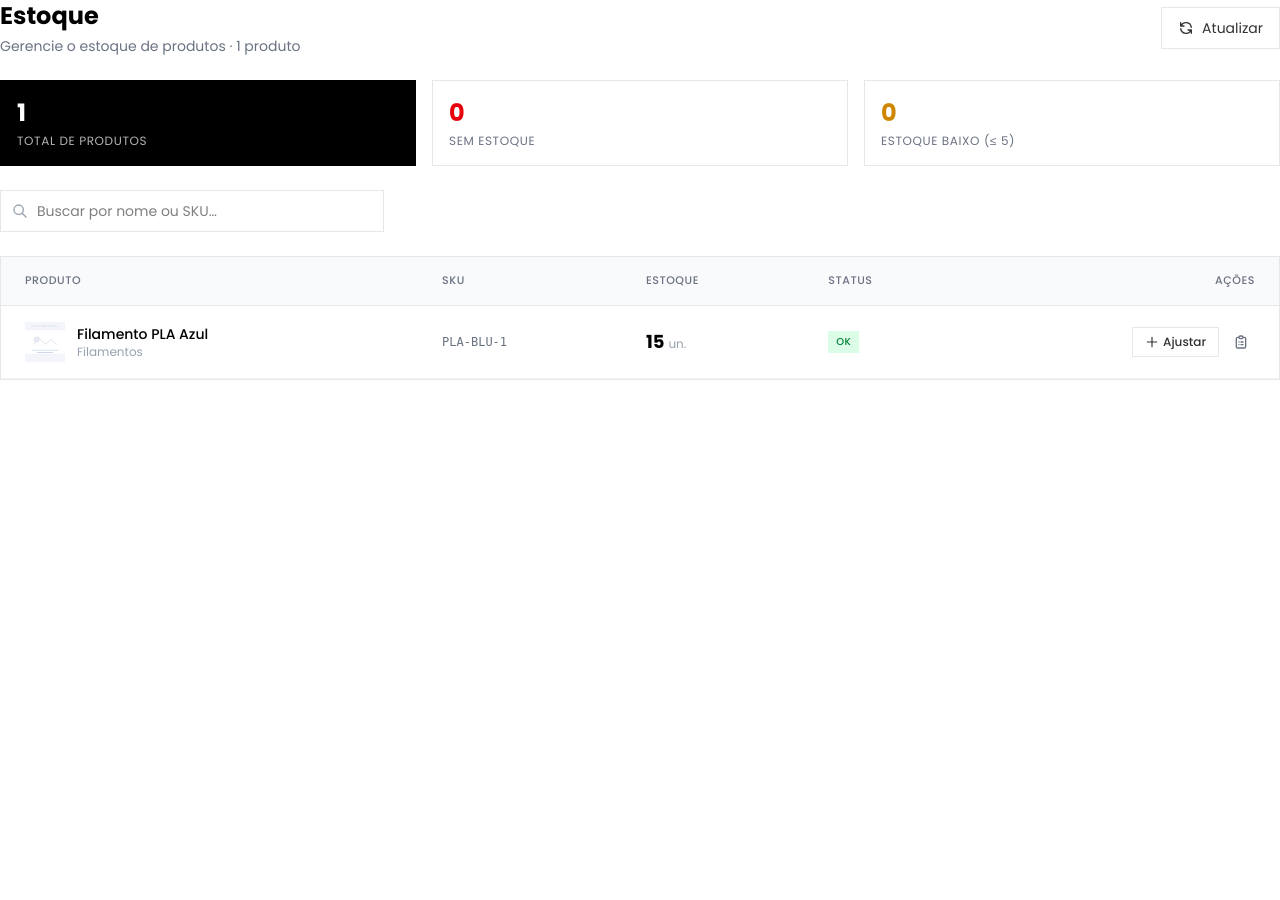
Test: Painel de Estoque Administrativo (UI) › deve abrir o modal de ajuste e exibir dados corretos do produto
Click the button titled "Ajustar estoque": (1176, 342) [1132,327,1219,357]
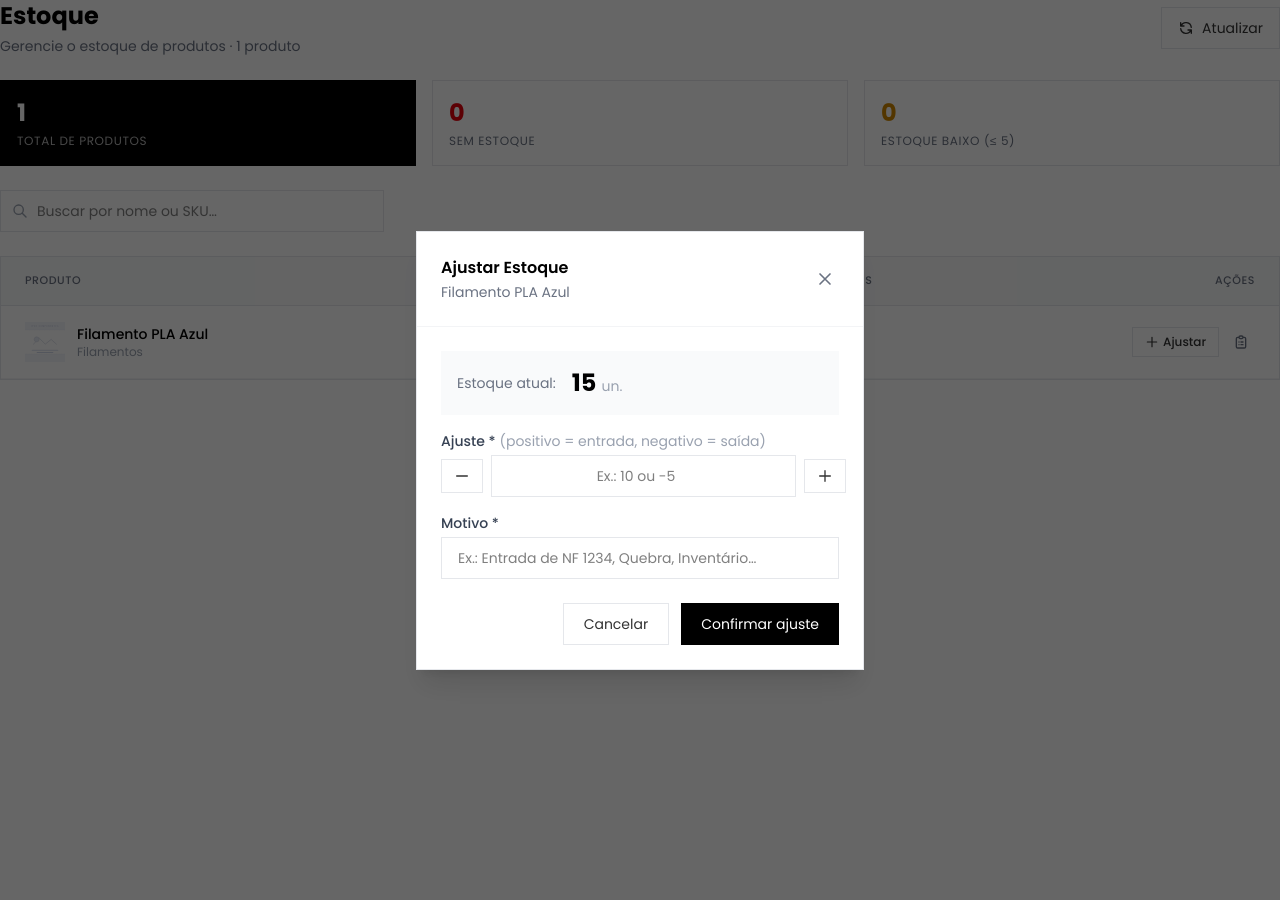
Check: the text "Filamento PLA Azul" is shown 2 times, box [77,324,208,344]; [441,282,570,302]
Check: the heading "Ajustar Estoque" is shown, box [441,256,570,280]
Check: the text "Estoque atual:" is shown, box [457,372,556,392]
